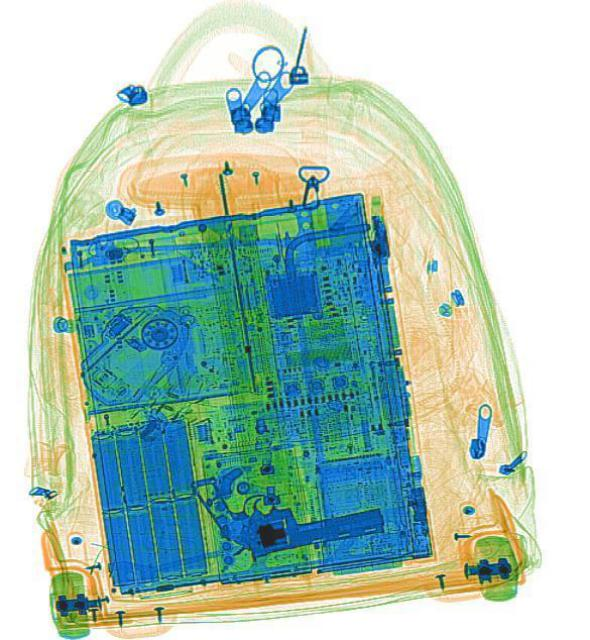Gun: (188, 452, 388, 560)
